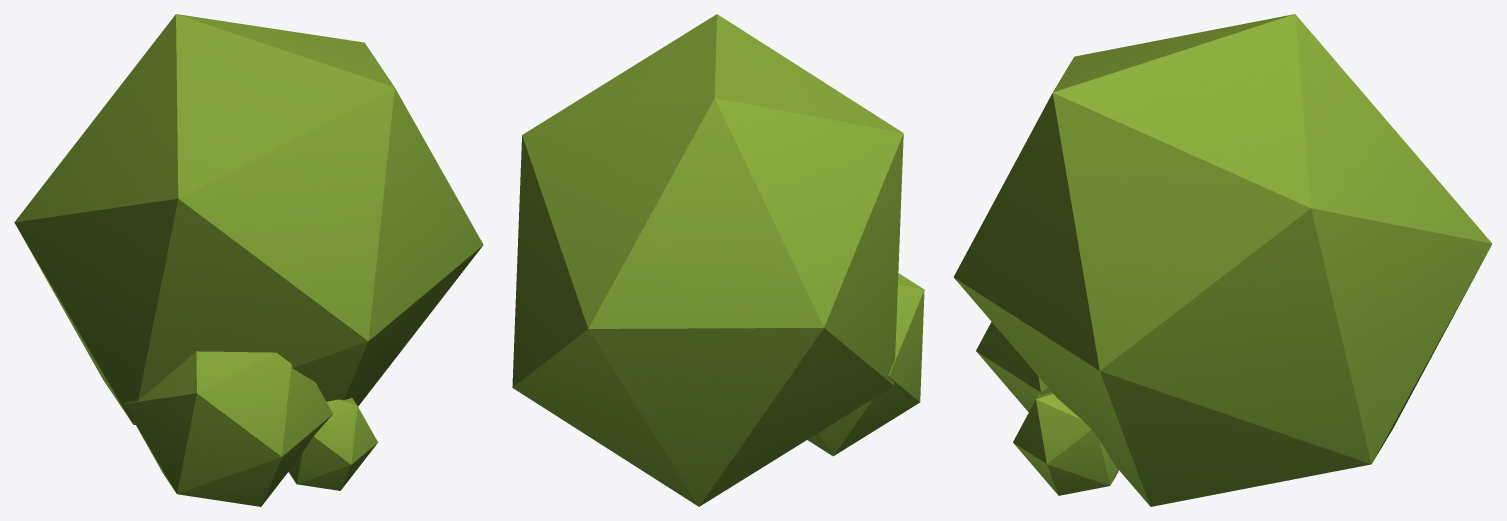
File: arbusto6.fbx
The picture shows the model from 3 angles, left to right: view 1: azimuth 30°, elevation 25°; view 2: azimuth 150°, elevation 25°; view 3: azimuth 270°, elevation 25°; orthographic projection. The views are drawn at different scales.
Visible parts, largest first — view 1: arbusto18; view 2: arbusto18; view 3: arbusto18.
Boxes of the visible parts, x1=… form: arbusto18: x1=14, y1=14, x2=483, y2=506; arbusto18: x1=512, y1=14, x2=924, y2=506; arbusto18: x1=953, y1=14, x2=1492, y2=506.
Size of the model in its own units: 149 by 164 by 177.
